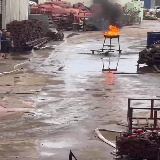fire: (104, 25, 120, 36)
